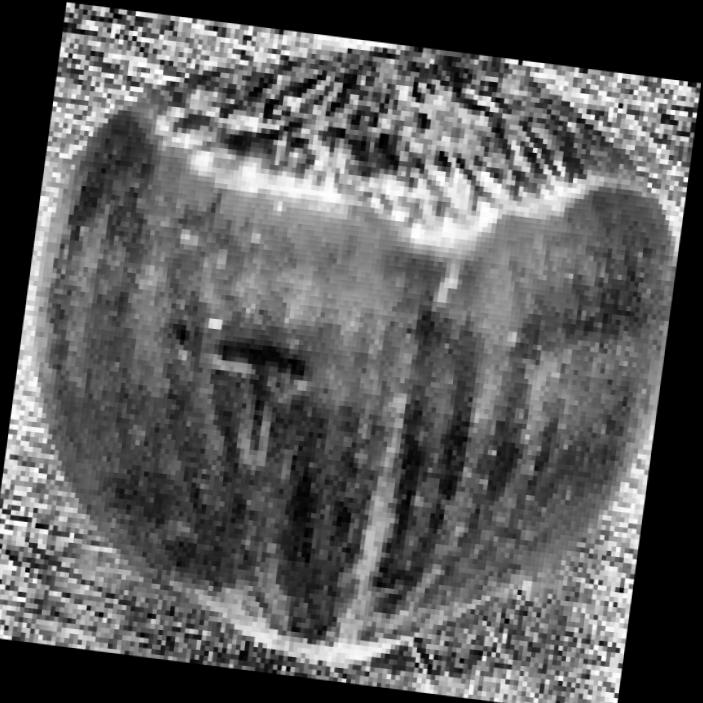qualityHazelnut: (0, 0, 703, 703)
